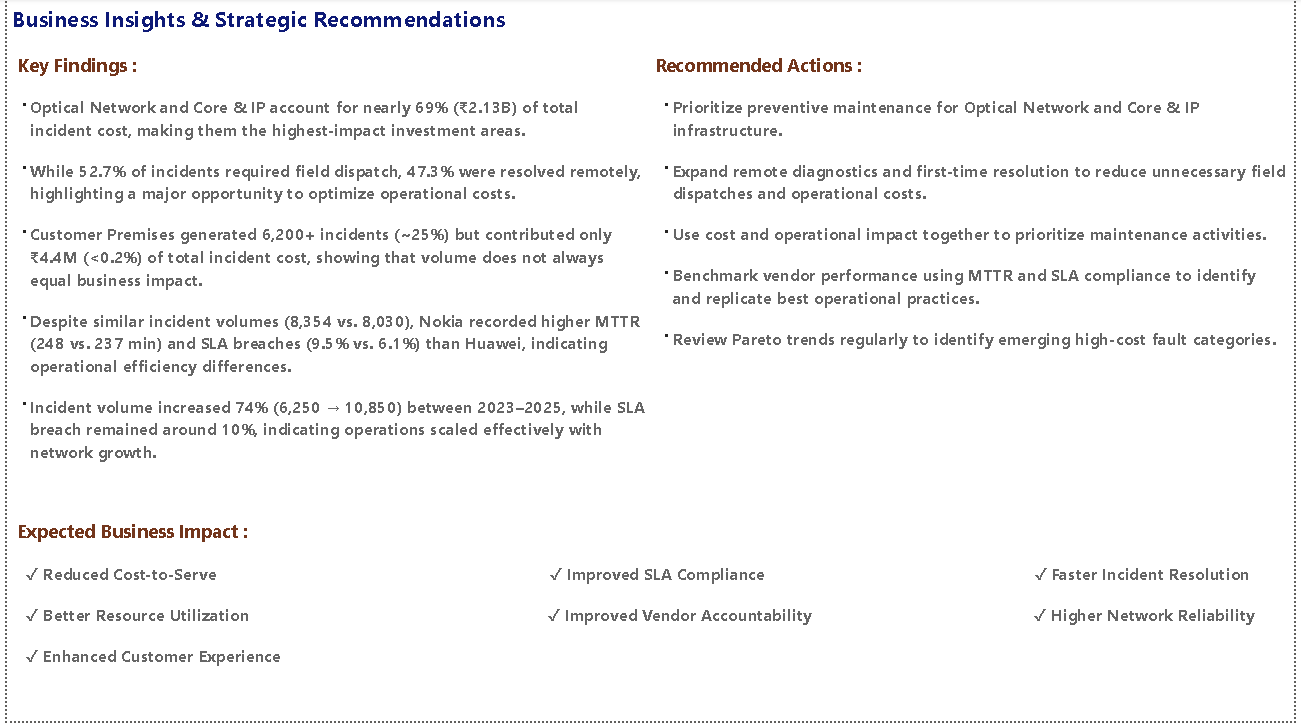

What the dashboard file says about the page in this screenshot:
{"tool":"powerbi","page":{"name":"Business Insights & Strategic Recommendations","canvas":[1280,720],"ordinal":4},"visuals":[{"type":"textbox","box":[0,0,672,48],"z":0},{"type":"textbox","box":[640,48,640,464],"z":1000},{"type":"textbox","box":[0,48,640,464],"z":2000},{"type":"textbox","box":[0,512,1280,208],"z":3000}]}

Visuals, with their boxes in screenshot pixels (x1, y1, x2, y2), scaled from the page's 1280x720 canvas onto the 1301x724 screenshot:
textbox: <bbox>0, 0, 683, 48</bbox>
textbox: <bbox>650, 48, 1300, 515</bbox>
textbox: <bbox>0, 48, 650, 515</bbox>
textbox: <bbox>0, 515, 1300, 723</bbox>
